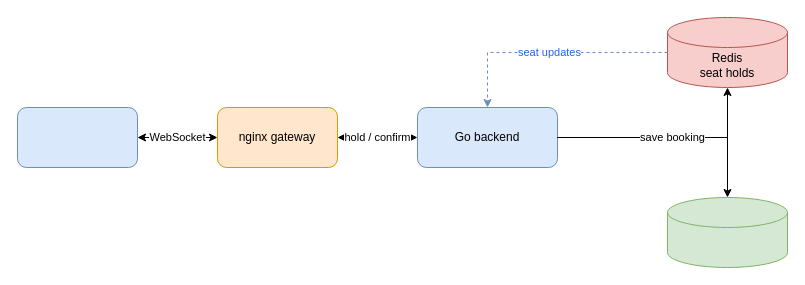
Image size: 805x285. Some labels were removed from this diagram. Here are the shapes that lost their labels. From the top down, the centre of each, then its label:
At (x=77, y=137): "Browser tabs (users)".
At (x=727, y=232): "PostgreSQL bookings".
